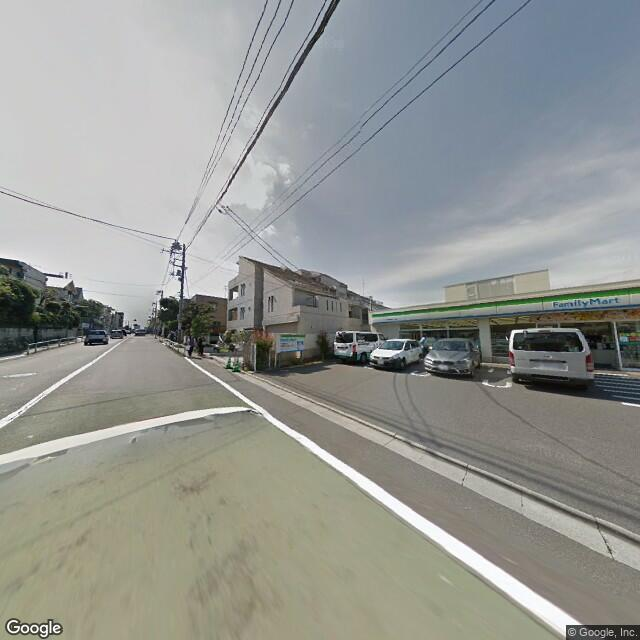family_mart: (371, 282, 639, 327)
